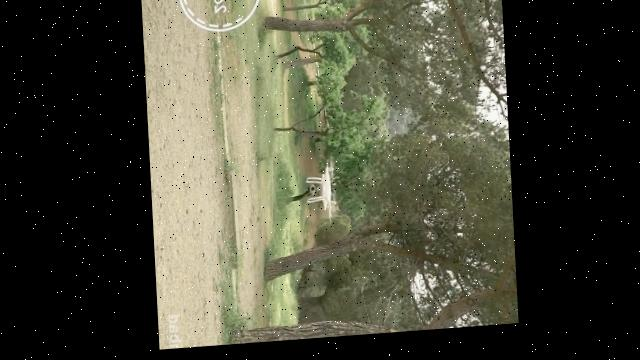drone: (301, 159, 337, 234)
